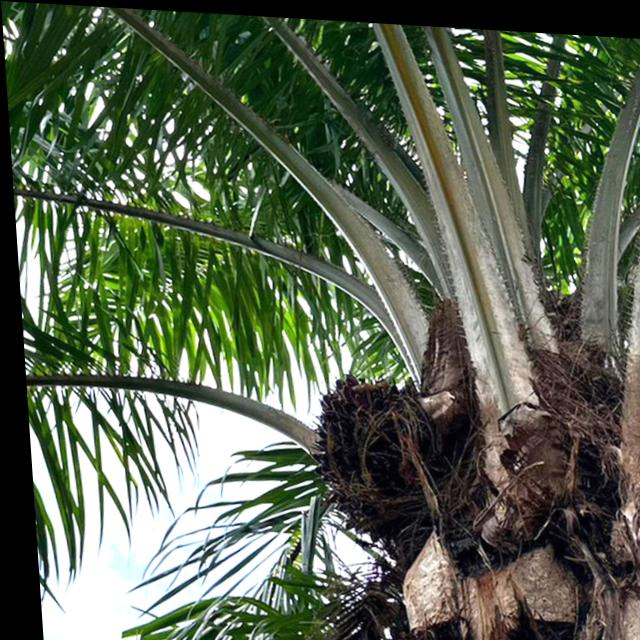ripe: (296, 357, 457, 544)
